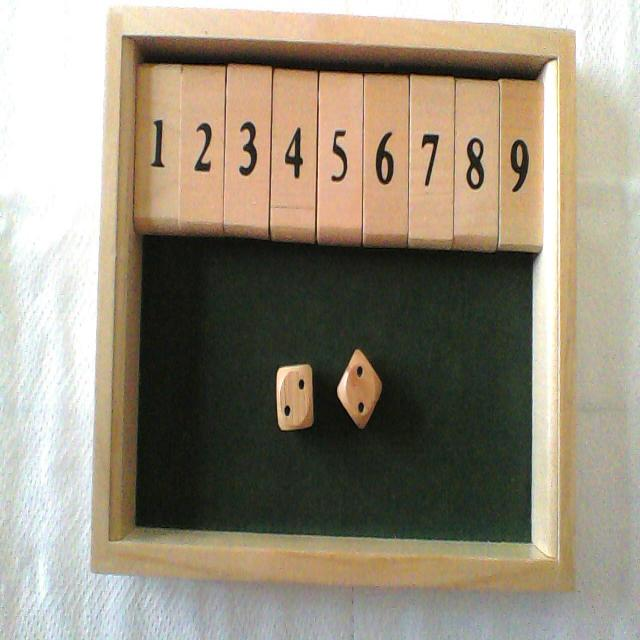2: (334, 344, 386, 434), (274, 361, 318, 433)
C1: (134, 6, 181, 236)
C2: (182, 7, 226, 237)
C3: (226, 8, 272, 238)
C4: (272, 12, 318, 243)
C5: (319, 14, 364, 247)
C6: (365, 16, 410, 247)
C7: (410, 19, 456, 250)
C8: (456, 22, 497, 252)
C9: (500, 23, 544, 253)
